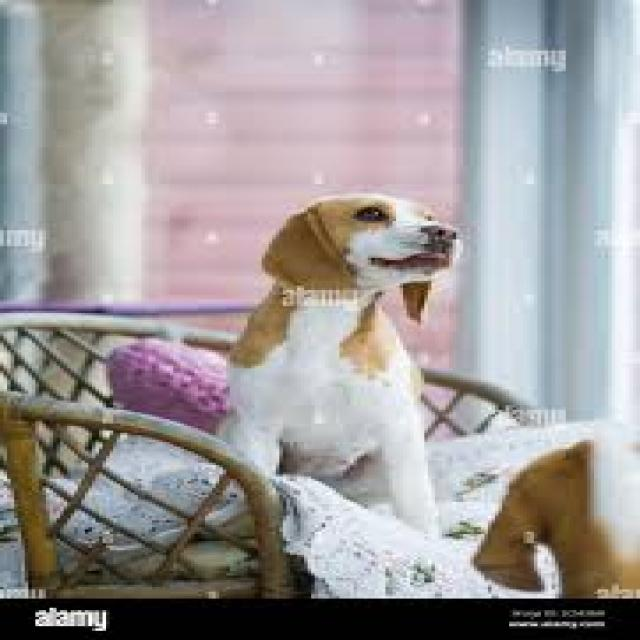Dog: (200, 190, 472, 546)
